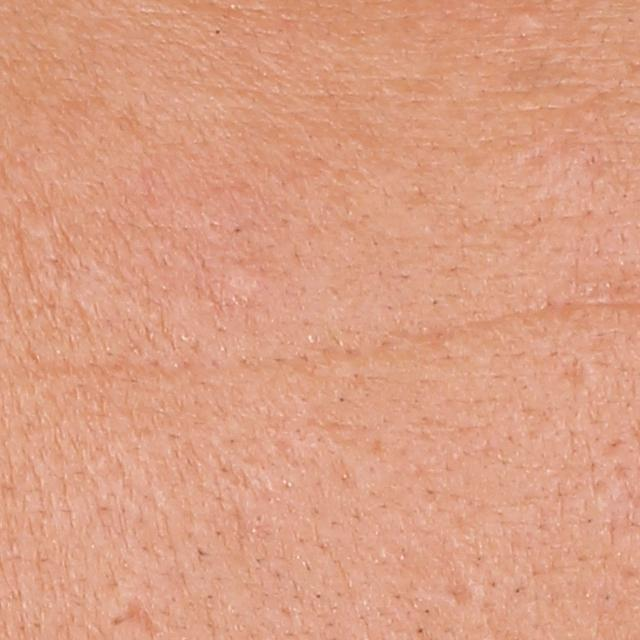atrophic_scar: (565, 355, 595, 390)
comedo: (508, 4, 552, 34)
